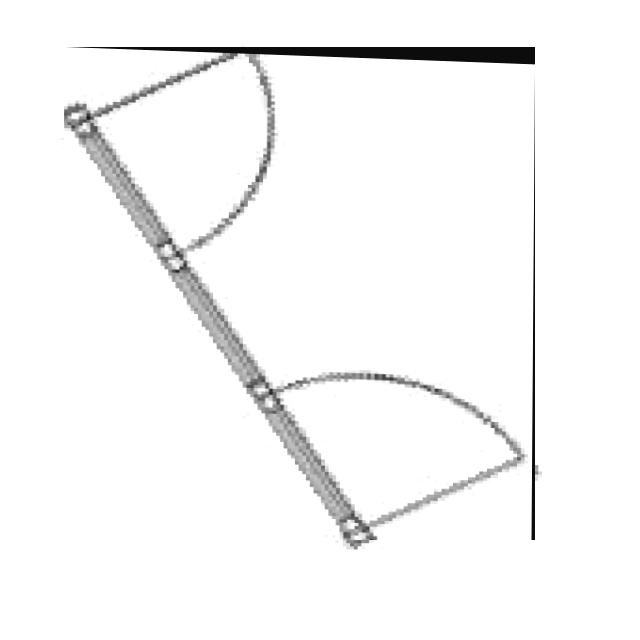door: (64, 47, 535, 540)
